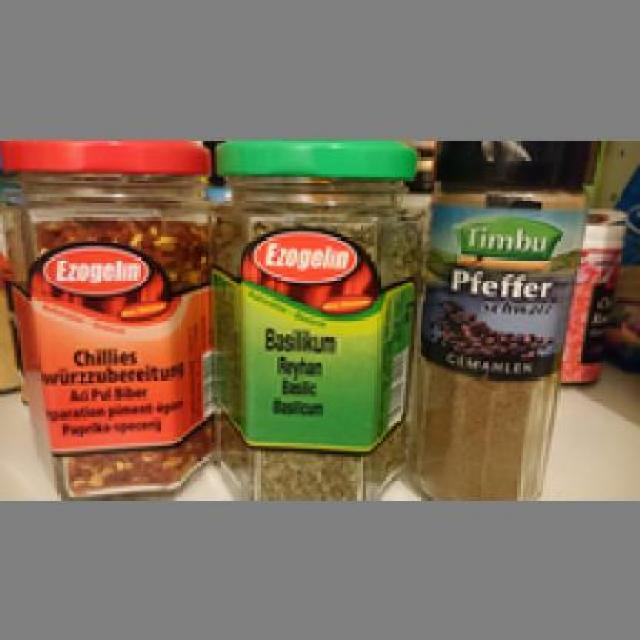Spices: (208, 137, 418, 497), (0, 137, 209, 494), (406, 137, 588, 497)
